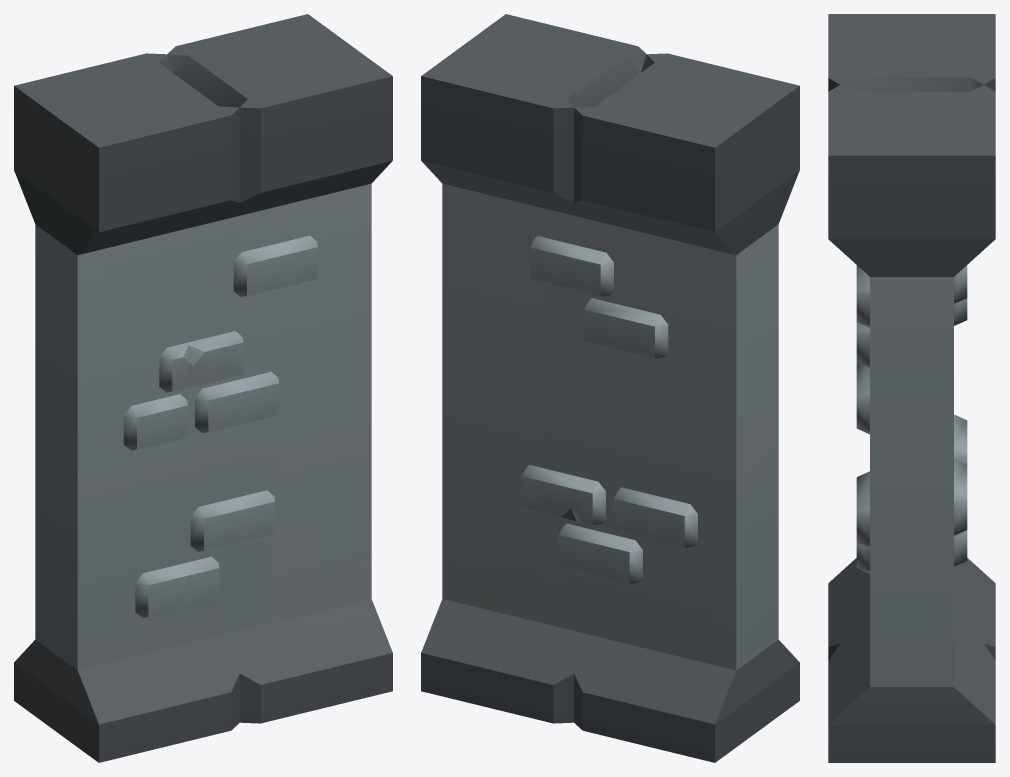
The model's file is kaykit-dungeon-remastered-wall-half-gltf.glb.
3 views of the same model, side by side, from view 1: azimuth 30°, elevation 25°; view 2: azimuth 150°, elevation 25°; view 3: azimuth 270°, elevation 25° (orthographic).
Parts seen in each view (by area): view 1: wall_half; view 2: wall_half; view 3: wall_half.
Boxes of the visible parts, x1,y1,x2,y2 form: wall_half: (14,14,392,762); wall_half: (421,14,799,762); wall_half: (828,14,995,762).
Size of the model in its own units: 2 by 4 by 1.
1 material, 1 textured.
